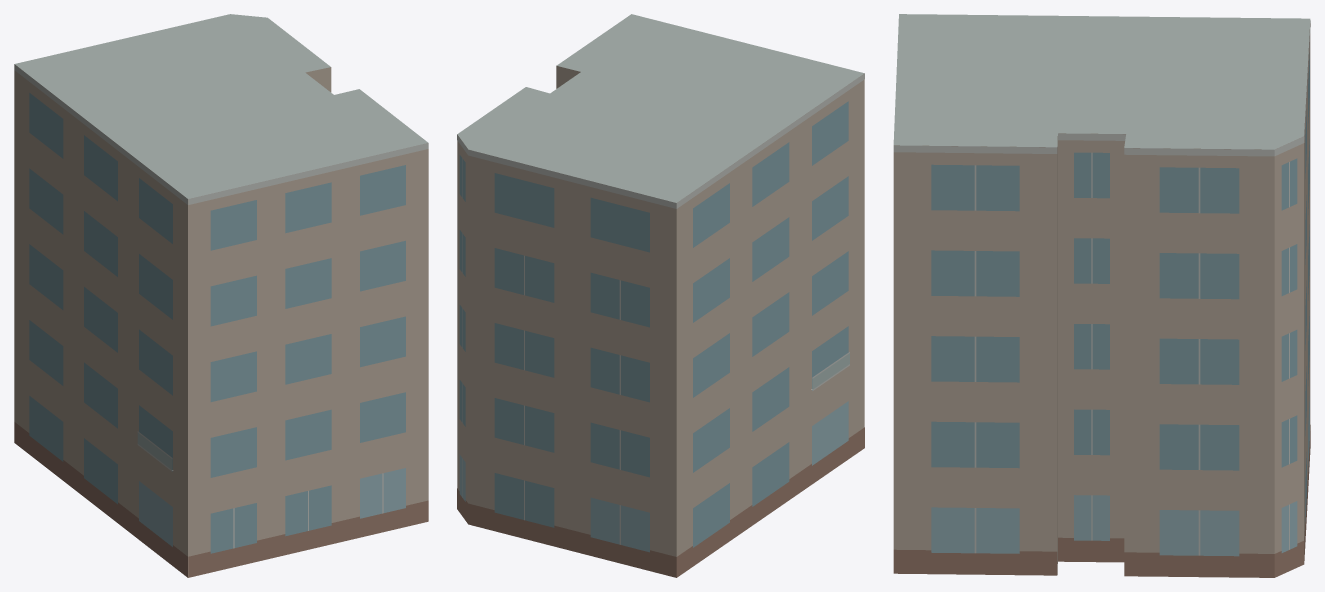
Rendered from survey-upis-32743371.glb.
3 renders of one model, left to right at view 1: azimuth 30°, elevation 25°; view 2: azimuth 150°, elevation 25°; view 3: azimuth 270°, elevation 25°, orthographic. The views are drawn at different scales.
Parts seen in each view (by area): view 1: survey-upis-32743371.tmp; view 2: survey-upis-32743371.tmp; view 3: survey-upis-32743371.tmp.
Boxes of the visible parts, left/top/right/bottom form: survey-upis-32743371.tmp: left=14, top=14, right=428, bottom=577; survey-upis-32743371.tmp: left=457, top=14, right=864, bottom=577; survey-upis-32743371.tmp: left=893, top=14, right=1310, bottom=577.
Bounding box in the file's own units: 10.37 × 15.25 × 13.46.
